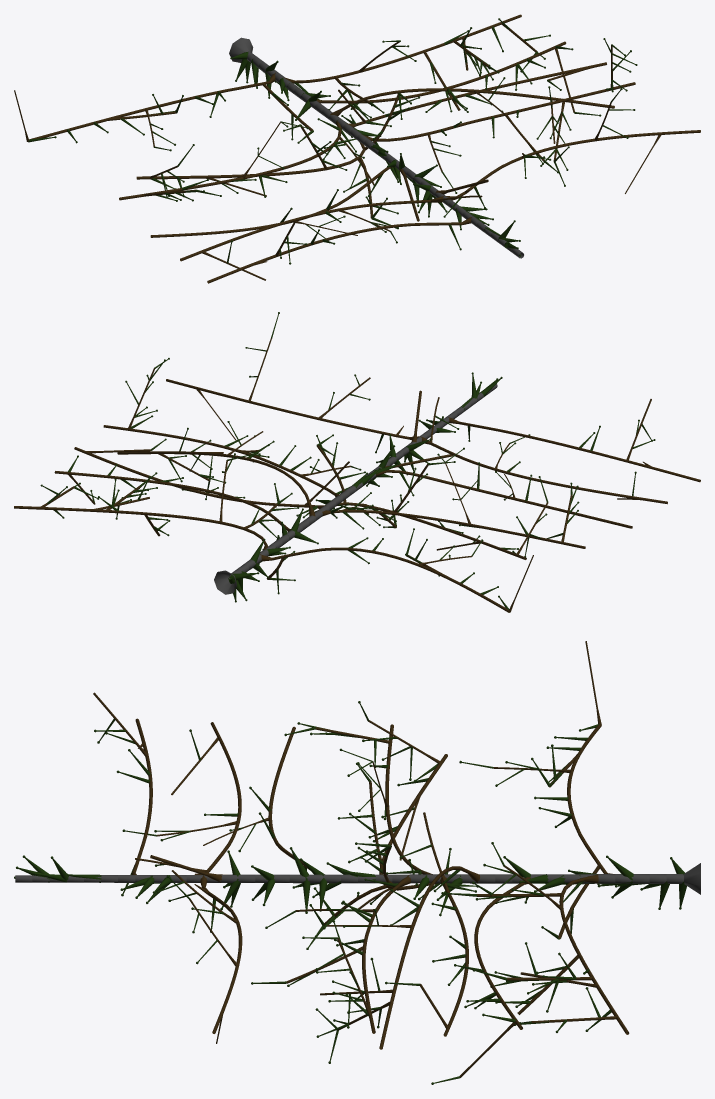
Rendered from tree_3.obj.
The picture shows the model from 3 angles, top to bottom: view 1: azimuth 30°, elevation 25°; view 2: azimuth 150°, elevation 25°; view 3: azimuth 270°, elevation 25°; orthographic projection. The views are drawn at different scales.
Bounding box in the file's own units: 4.41 × 1.18 × 4.01.
